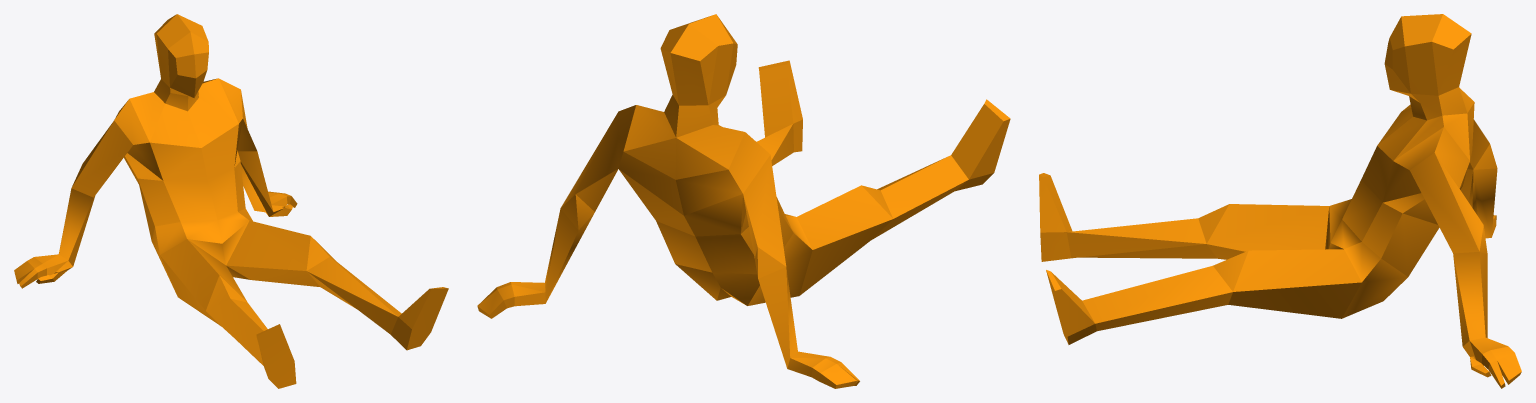
Rendered from Human02.fbx.
The picture shows the model from 3 angles, left to right: view 1: azimuth 30°, elevation 25°; view 2: azimuth 150°, elevation 25°; view 3: azimuth 270°, elevation 25°; orthographic projection. The views are drawn at different scales.
Visible parts, largest first — view 1: Human02; view 2: Human02; view 3: Human02.
Part boxes in pixels (bbox=[...]): Human02: bbox=[14, 14, 448, 388]; Human02: bbox=[477, 14, 1010, 388]; Human02: bbox=[1039, 14, 1521, 388].
Bounding box in the file's own units: 114 × 92.02 × 137.
